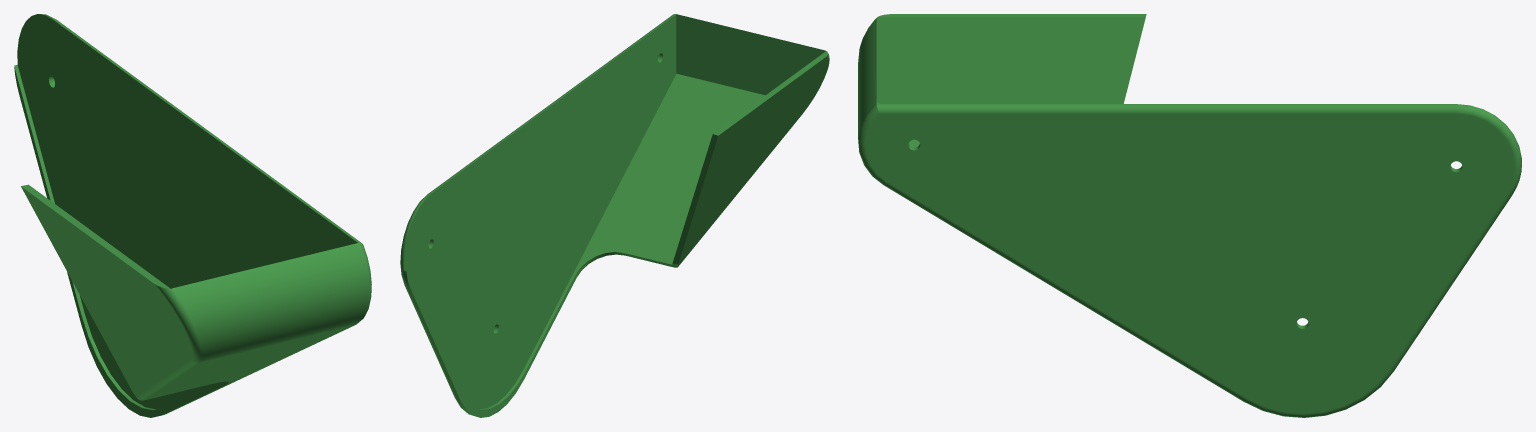
Rendered from FootCoverRight.dae.
3 renders of one model, left to right at view 1: azimuth 30°, elevation 25°; view 2: azimuth 150°, elevation 25°; view 3: azimuth 270°, elevation 25°, orthographic. The views are drawn at different scales.
Visible parts, largest first — view 1: FootCoverRight; view 2: FootCoverRight; view 3: FootCoverRight.
Boxes of the visible parts, x1,y1,x2,y2 form: FootCoverRight: (14,14,371,417); FootCoverRight: (400,14,829,417); FootCoverRight: (858,14,1521,417).
Size of the model in its own units: 0.0587 by 0.1768 by 0.0921.
